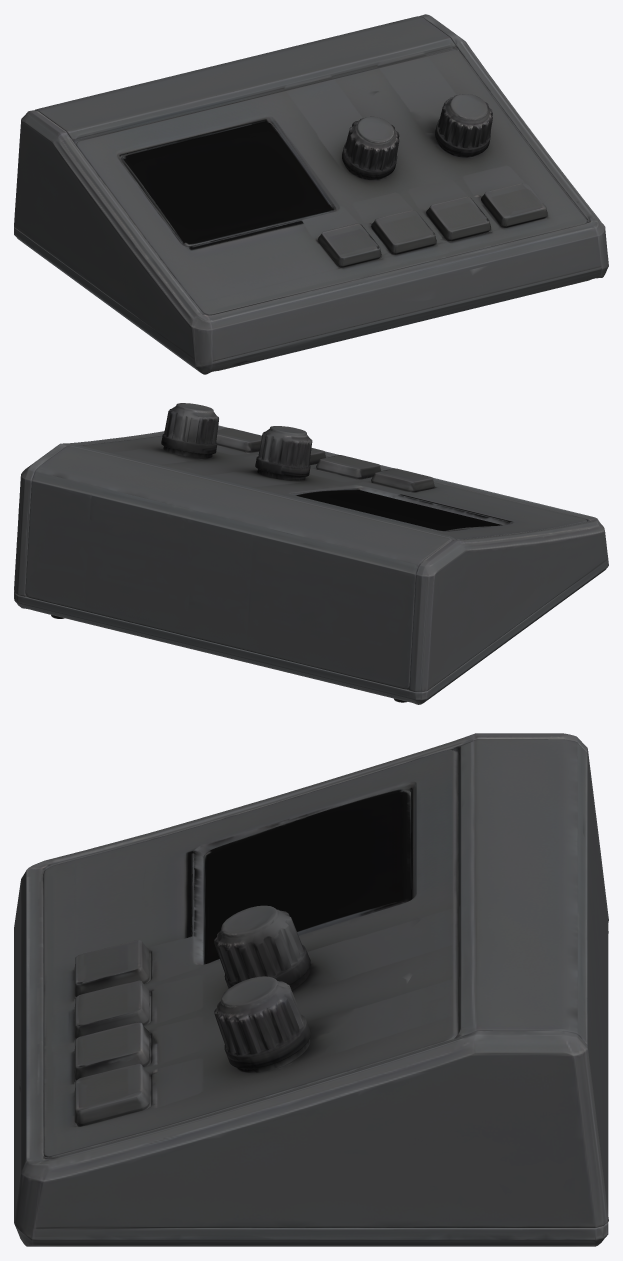
The model's file is dashboard-console.glb.
3 views of the same model, one above another, from view 1: azimuth 30°, elevation 25°; view 2: azimuth 150°, elevation 25°; view 3: azimuth 270°, elevation 25° (orthographic). The views are drawn at different scales.
Visible parts, largest first — view 1: node_0; view 2: node_0; view 3: node_0.
Part boxes in pixels (box(x1,y1,x2,y2)): node_0: box(14, 14, 608, 374); node_0: box(14, 403, 608, 704); node_0: box(14, 733, 608, 1246).
Bounding box in the file's own units: 0.9304 × 0.3193 × 0.7453.
1 material, 1 textured.
